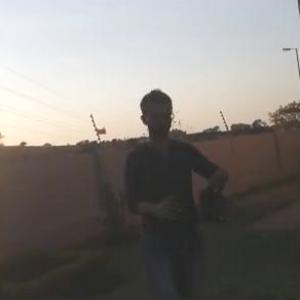follow: (121, 82, 234, 299)
